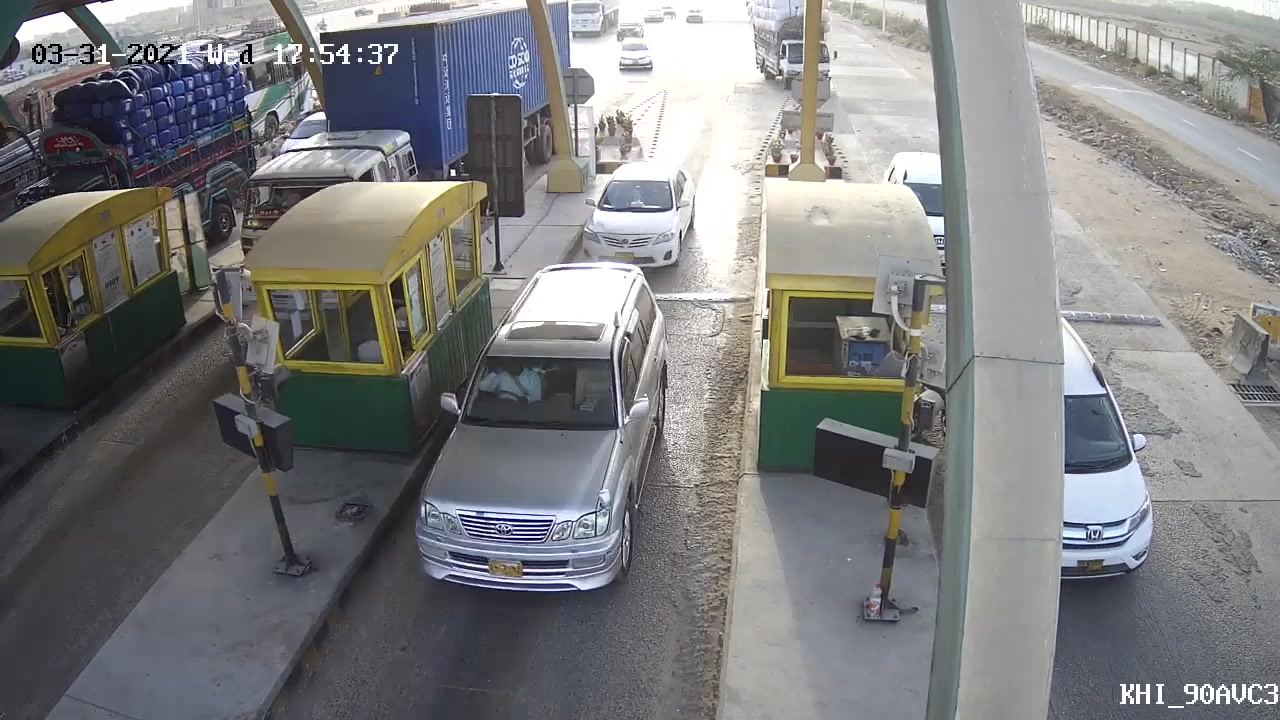F1: (398, 259, 681, 600)
